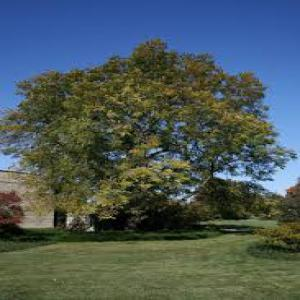Tree: (0, 31, 284, 241)
